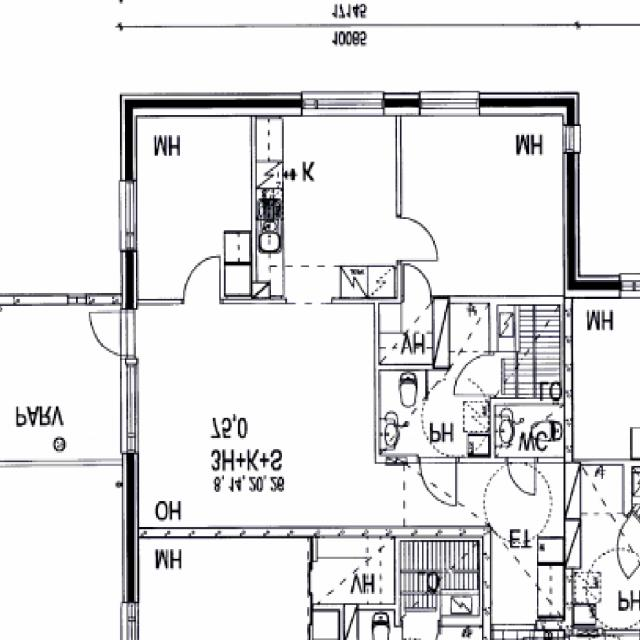door: (86, 310, 139, 355), (182, 253, 220, 305), (420, 457, 456, 507), (396, 218, 437, 260), (455, 354, 496, 395), (403, 264, 432, 305), (507, 457, 535, 497), (493, 619, 534, 640)
